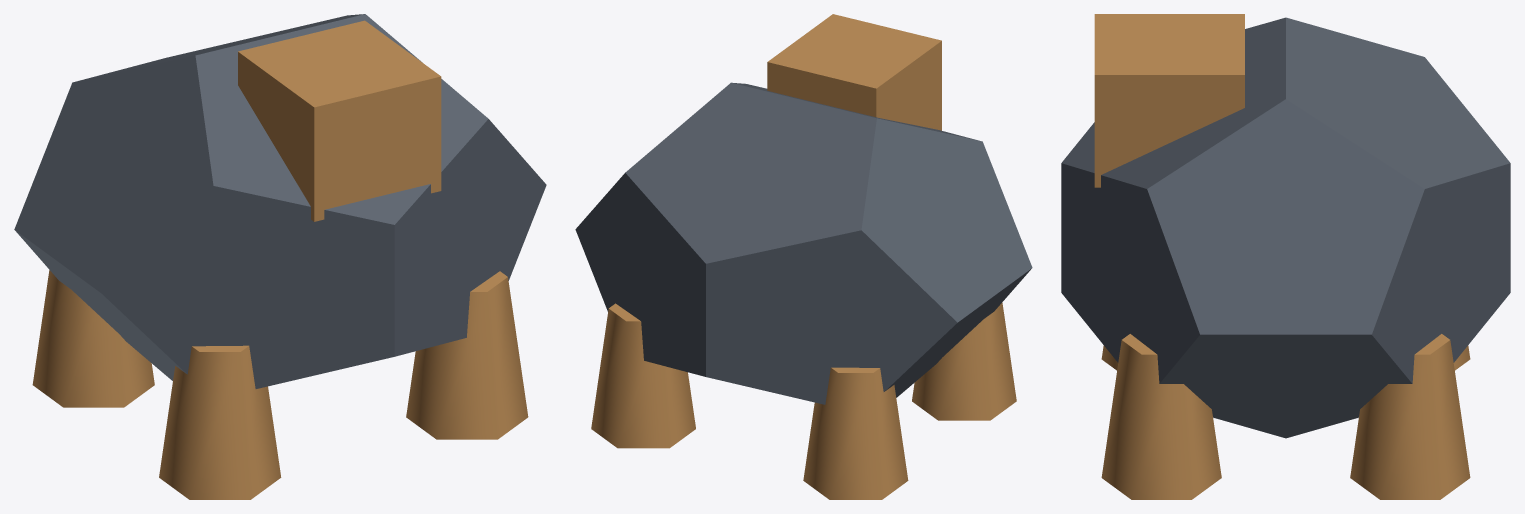
Rendered from rock_beast.glb.
3 renders of one model, left to right at view 1: azimuth 30°, elevation 25°; view 2: azimuth 150°, elevation 25°; view 3: azimuth 270°, elevation 25°, orthographic. The views are drawn at different scales.
Visible parts, largest first — view 1: body, head, leg_1, leg_0, leg_3; view 2: body, head, leg_3, leg_2, leg_1; view 3: body, head, leg_0, leg_2.
Boxes of the visible parts, left/top/right/bottom form: body: left=14, top=14, right=546, bottom=388; head: left=238, top=20, right=441, bottom=221; leg_1: left=159, top=345, right=281, bottom=499; leg_0: left=406, top=271, right=528, bottom=439; leg_3: left=32, top=270, right=154, bottom=407; body: left=575, top=82, right=1032, bottom=404; head: left=767, top=14, right=941, bottom=130; leg_3: left=803, top=367, right=908, bottom=499; leg_2: left=591, top=303, right=695, bottom=448; leg_1: left=912, top=302, right=1016, bottom=420; body: left=1061, top=17, right=1510, bottom=438; head: left=1094, top=14, right=1244, bottom=187; leg_0: left=1101, top=334, right=1221, bottom=499; leg_2: left=1350, top=334, right=1470, bottom=499.
Size of the model in its own units: 2.52 by 2.06 by 2.24.
